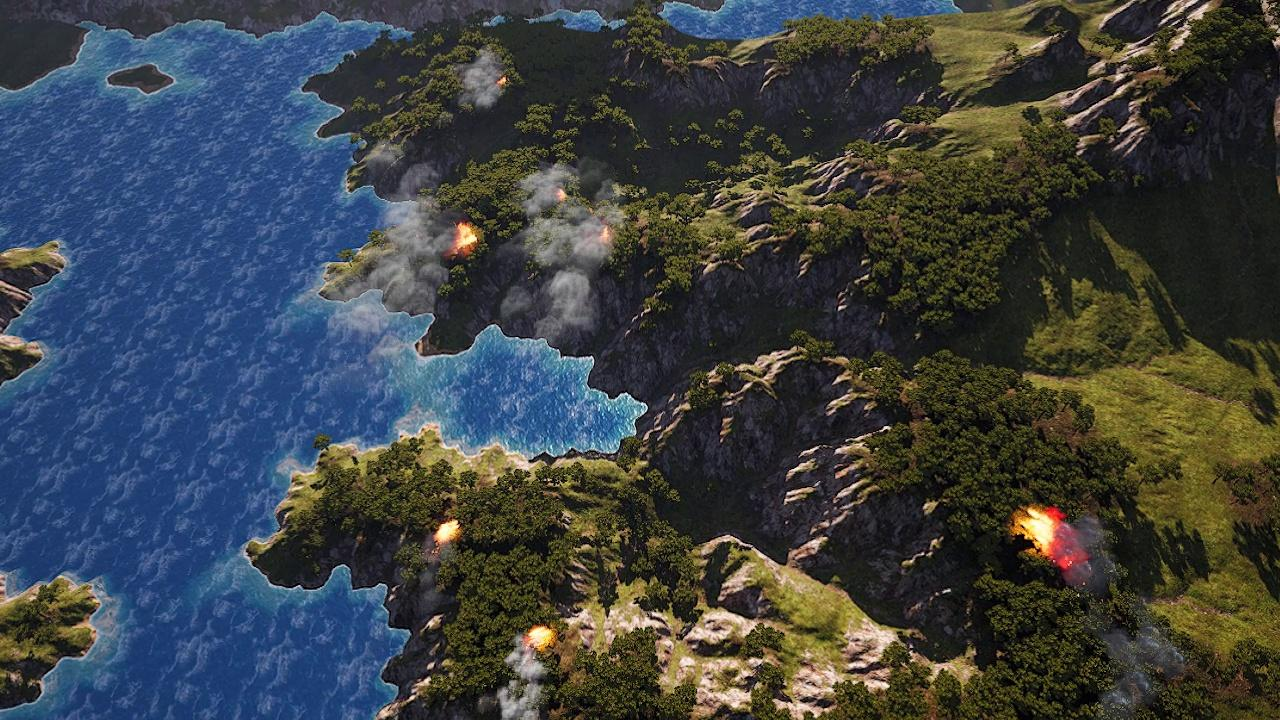fire: (1019, 506, 1062, 554), (455, 225, 480, 261), (526, 627, 557, 649), (434, 520, 460, 543), (496, 79, 510, 86)
smoke: (1055, 505, 1192, 713), (505, 149, 624, 345), (348, 148, 458, 322), (499, 638, 541, 720), (458, 49, 507, 110)
